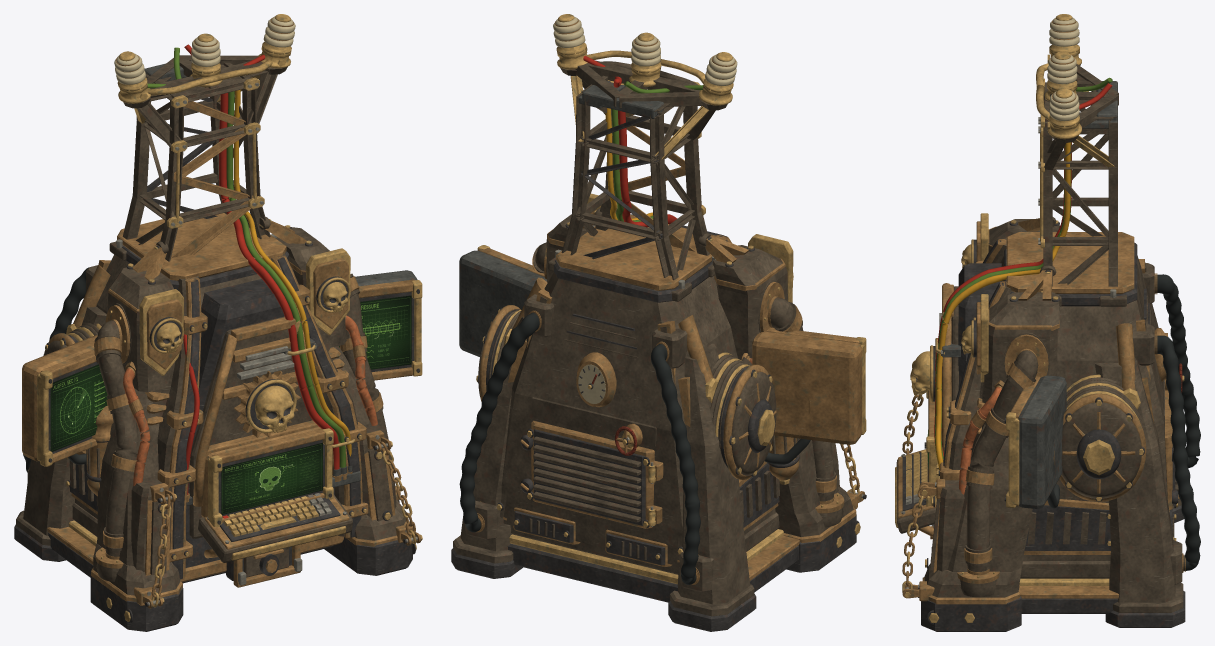
Rendered from planetary-magos.glb.
3 renders of one model, left to right at view 1: azimuth 30°, elevation 25°; view 2: azimuth 150°, elevation 25°; view 3: azimuth 270°, elevation 25°, orthographic. The views are drawn at different scales.
Parts seen in each view (by area): view 1: planetary | tapered engine casting, planetary | split foundation shoes, planetary | service door and buttresses, planetary | studs and instrumentation, LH | shoulder supply casting, planetary · command monitor · bowed phosphor glass, planetary · console mounting apron, Planetary · auspex wing · bowed phosphor glass, Planetary · telemetry wing · bowed phosphor glass, field trunk | red, field trunk | green, Planetary · auspex wing · die-cast rear case (+44 smaller); view 2: planetary | tapered engine casting, planetary | finned reduction housings, planetary | split foundation shoes, Planetary · auspex wing · die-cast rear case, planetary | studs and instrumentation, Planetary · telemetry wing · die-cast rear case, planetary | service door and buttresses, LH | rear exchanger return, RH | rear exchanger return, LH | shoulder supply casting, mast | terminal rail, tower | main rolled upright.004 (+14 smaller); view 3: planetary | tapered engine casting, planetary | split foundation shoes, planetary | finned reduction housings, RH | shoulder supply casting, Planetary · telemetry wing · die-cast rear case, planetary | studs and instrumentation, RH | rear exchanger return, LH | rear exchanger return, planetary | service door and buttresses, field trunk | amber, RH | instrument hardline, Planetary · telemetry wing · edge rail.001 (+20 smaller).
Boxes of the visible parts, box(x1,y1,x2,y2) form: planetary | tapered engine casting: box(23, 213, 399, 582); planetary | split foundation shoes: box(14, 499, 412, 631); planetary | service door and buttresses: box(98, 255, 368, 579); planetary | studs and instrumentation: box(45, 217, 416, 623); LH | shoulder supply casting: box(94, 305, 138, 568); planetary · command monitor · bowed phosphor glass: box(221, 442, 322, 514); planetary · console mounting apron: box(189, 316, 312, 538); Planetary · auspex wing · bowed phosphor glass: box(50, 364, 108, 451); Planetary · telemetry wing · bowed phosphor glass: box(339, 295, 411, 369); field trunk | red: box(219, 93, 339, 469); field trunk | green: box(226, 91, 345, 467); Planetary · auspex wing · die-cast rear case: box(22, 335, 97, 461); planetary | tapered engine casting: box(460, 214, 843, 604); planetary | finned reduction housings: box(478, 305, 776, 528); planetary | split foundation shoes: box(451, 487, 856, 631); Planetary · auspex wing · die-cast rear case: box(752, 331, 862, 444); planetary | studs and instrumentation: box(476, 208, 860, 559); Planetary · telemetry wing · die-cast rear case: box(459, 250, 546, 356); planetary | service door and buttresses: box(500, 214, 731, 566); LH | rear exchanger return: box(651, 341, 700, 584); RH | rear exchanger return: box(459, 310, 541, 532); LH | shoulder supply casting: box(759, 282, 844, 513); mast | terminal rail: box(582, 85, 663, 118); tower | main rolled upright.004: box(650, 158, 668, 238); planetary | tapered engine casting: box(936, 219, 1182, 602); planetary | split foundation shoes: box(921, 499, 1185, 631); planetary | finned reduction housings: box(1059, 374, 1179, 510); RH | shoulder supply casting: box(957, 334, 1048, 583); Planetary · telemetry wing · die-cast rear case: box(1018, 375, 1066, 508); planetary | studs and instrumentation: box(925, 217, 1184, 624); RH | rear exchanger return: box(1154, 334, 1200, 572); LH | rear exchanger return: box(1154, 273, 1200, 468); planetary | service door and buttresses: box(940, 239, 1174, 536); field trunk | amber: box(935, 142, 1070, 470); RH | instrument hardline: box(959, 380, 1004, 494); Planetary · telemetry wing · edge rail.001: box(1008, 418, 1019, 505).
Bounding box in the file's own units: 2.75 × 3.46 × 1.88.
17 materials, 17 textured.
